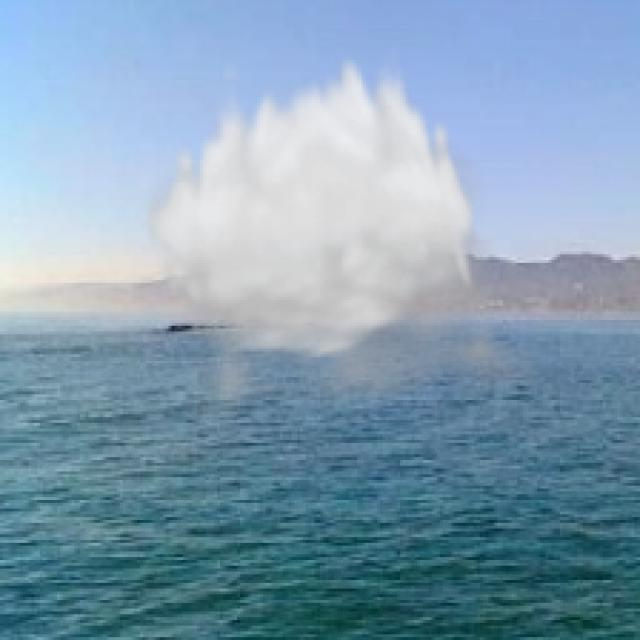smoke: (140, 49, 549, 434)
